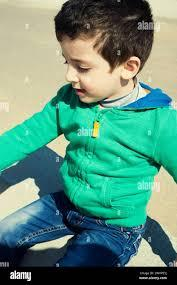Human: (8, 4, 177, 285)
